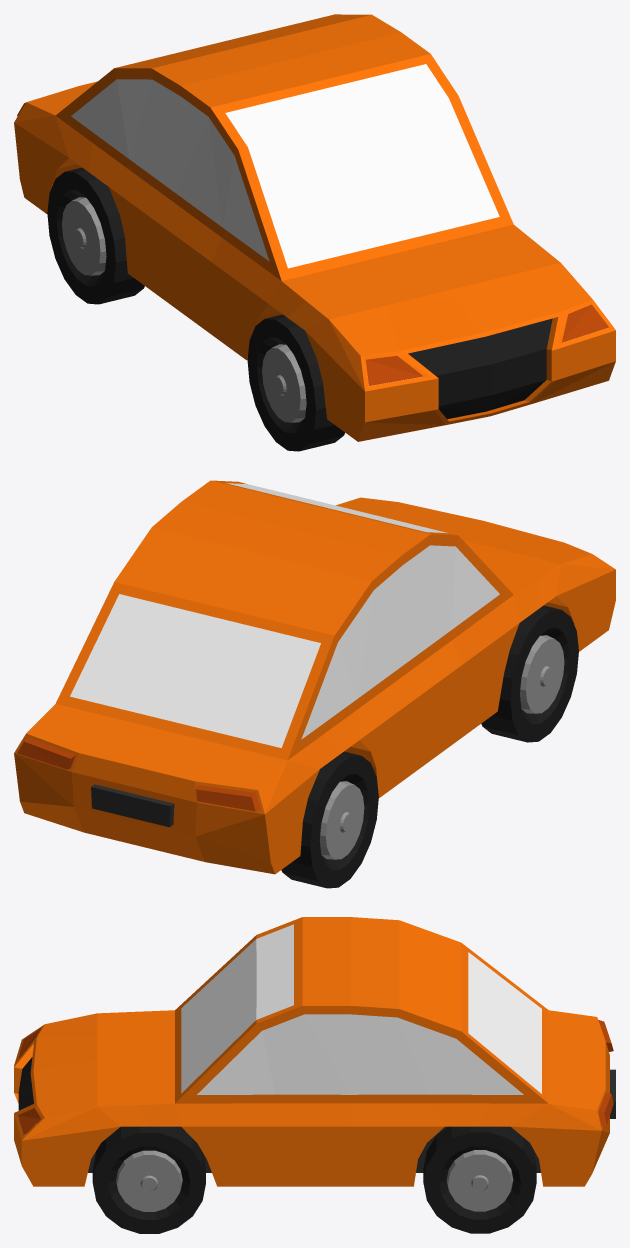
Rendered from OrangeCar.FBX.
The picture shows the model from 3 angles, top to bottom: view 1: azimuth 30°, elevation 25°; view 2: azimuth 150°, elevation 25°; view 3: azimuth 270°, elevation 25°; orthographic projection. The views are drawn at different scales.
Visible parts, largest first — view 1: orange, Wheels, RightBlinker, LeftBlinker; view 2: orange, Wheels, RightBlinker, LeftBlinker; view 3: orange, Wheels, LeftBlinker.
Boxes of the visible parts, x1,y1,x2,y2 form: orange: [14, 14, 615, 441]; Wheels: [47, 167, 344, 451]; RightBlinker: [17, 102, 423, 385]; LeftBlinker: [562, 304, 609, 342]; orange: [14, 480, 615, 874]; Wheels: [281, 605, 578, 888]; RightBlinker: [196, 785, 260, 811]; LeftBlinker: [17, 737, 75, 769]; orange: [14, 917, 615, 1186]; Wheels: [92, 1126, 536, 1233]; LeftBlinker: [18, 1092, 613, 1135].
Bounding box in the file's own units: 161 × 152 × 377.
Materials: 2 (1 with a texture image).
